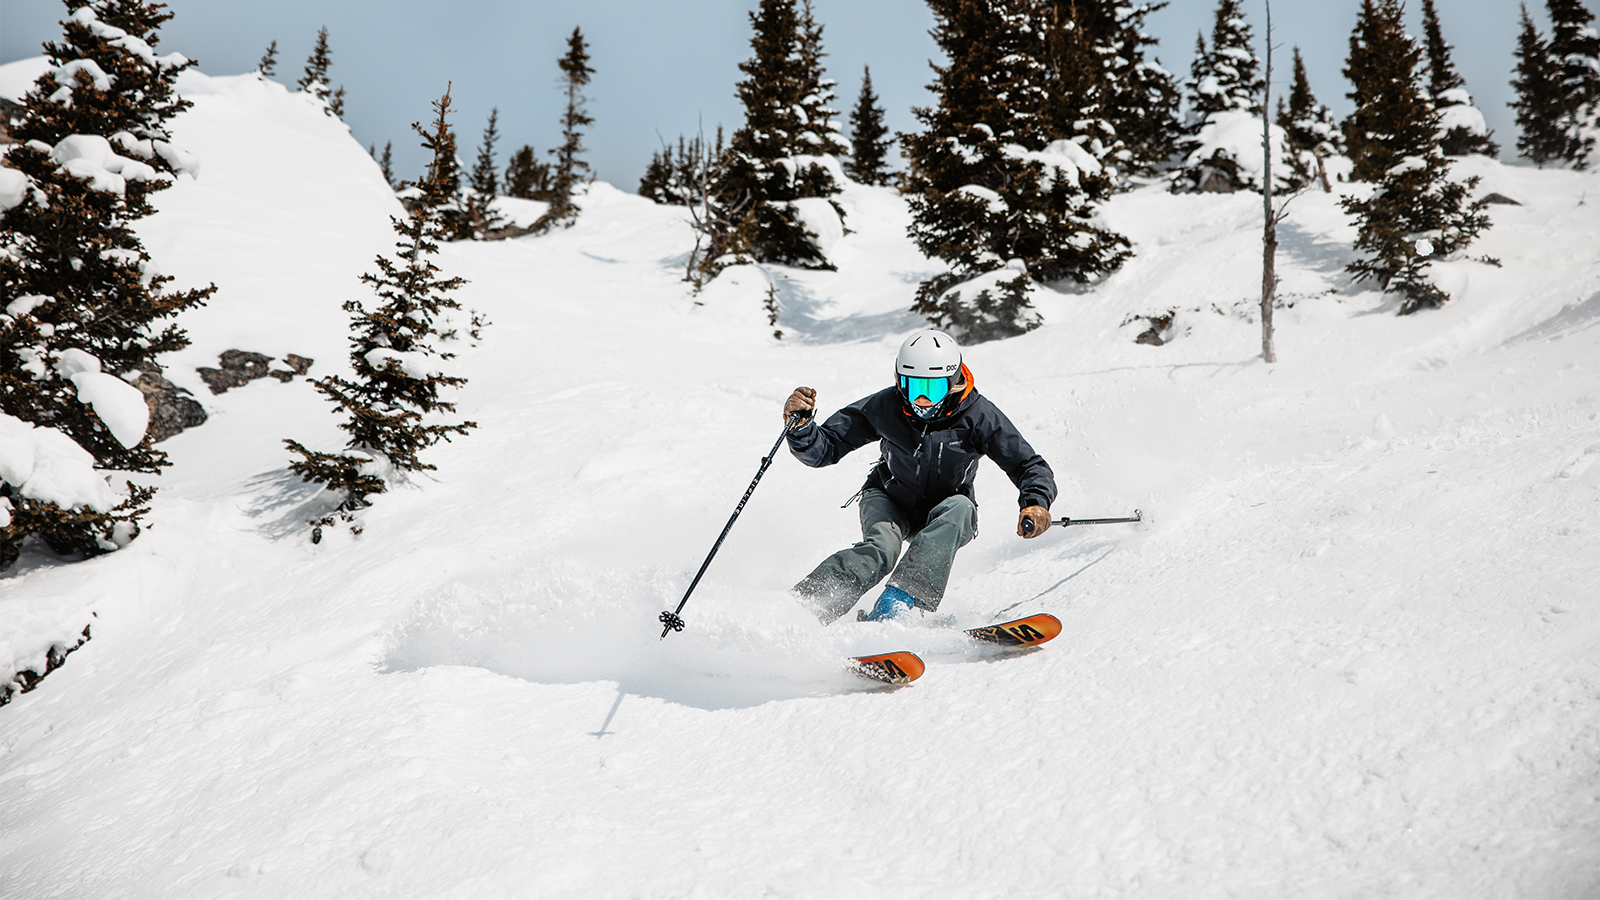skier: (658, 329, 1149, 684)
